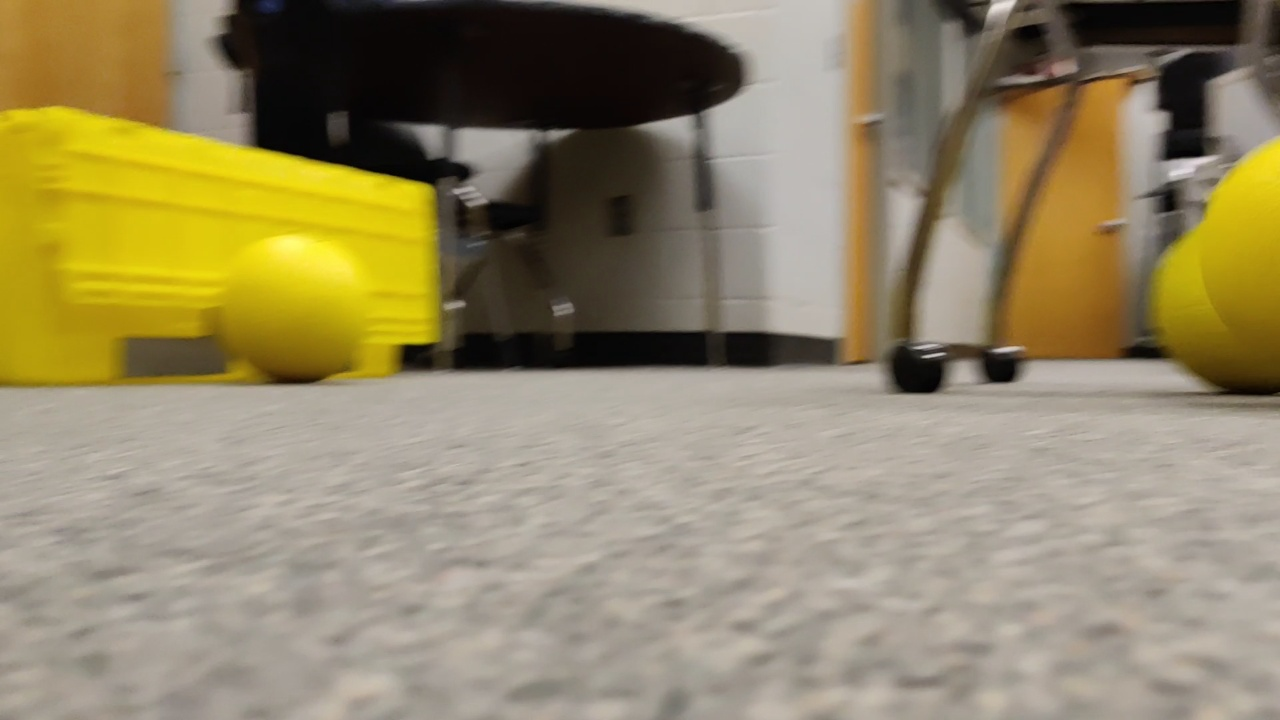Ball: (222, 236, 362, 378), (1150, 243, 1263, 388)
